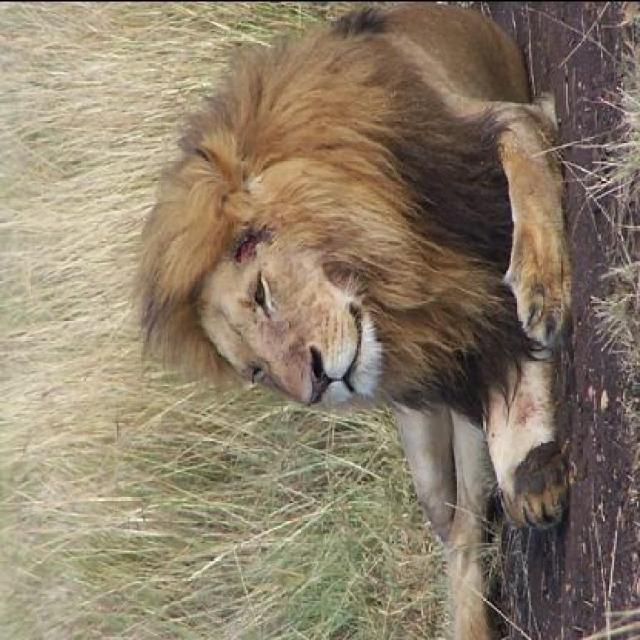Lion: (108, 6, 582, 554)
